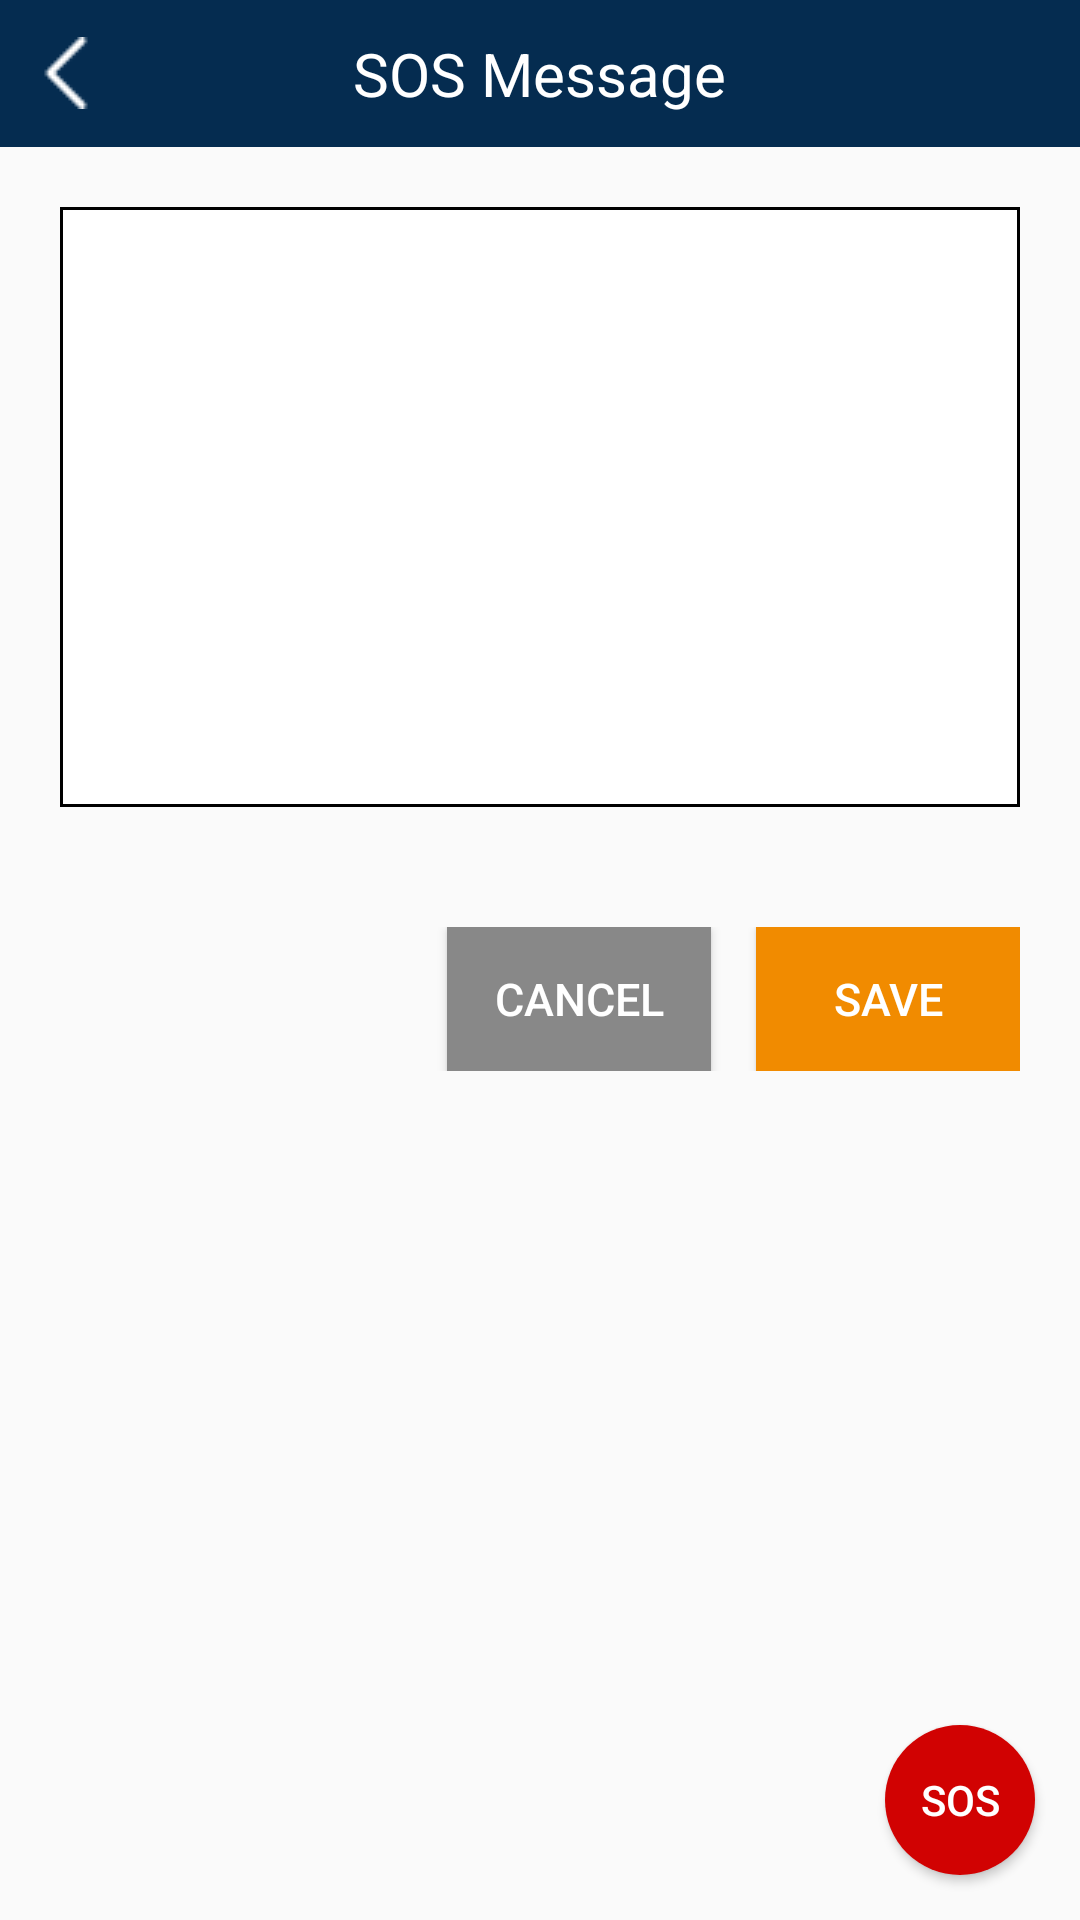

Icon click points for this 1080px x 1920px phone screenshot, format point (x, y):
back: point (66, 73)
